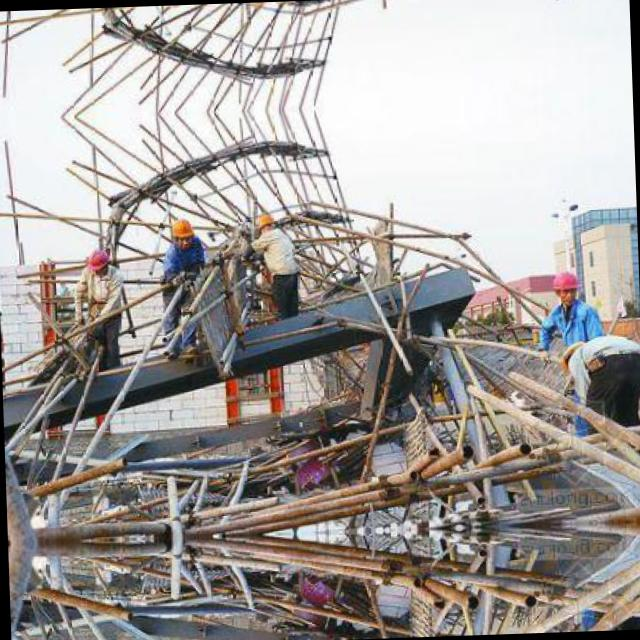helmet: (80, 244, 112, 288), (164, 217, 198, 251), (552, 266, 582, 304), (252, 212, 274, 236), (245, 2, 268, 8)
